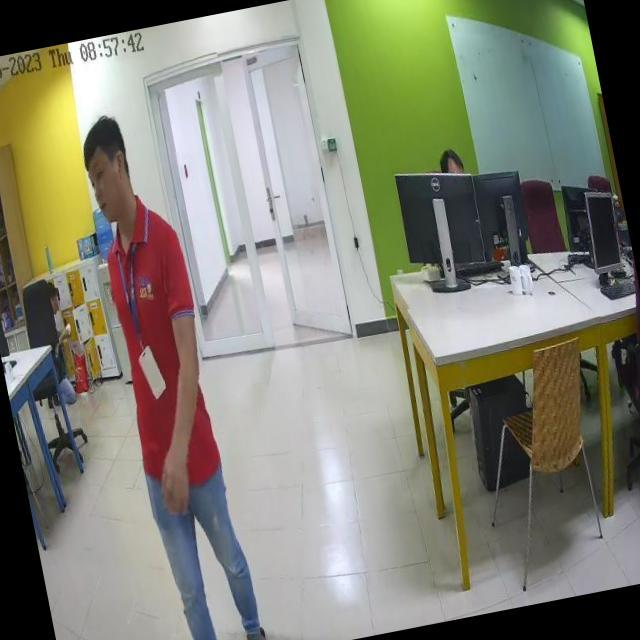person: (76, 103, 271, 640)
